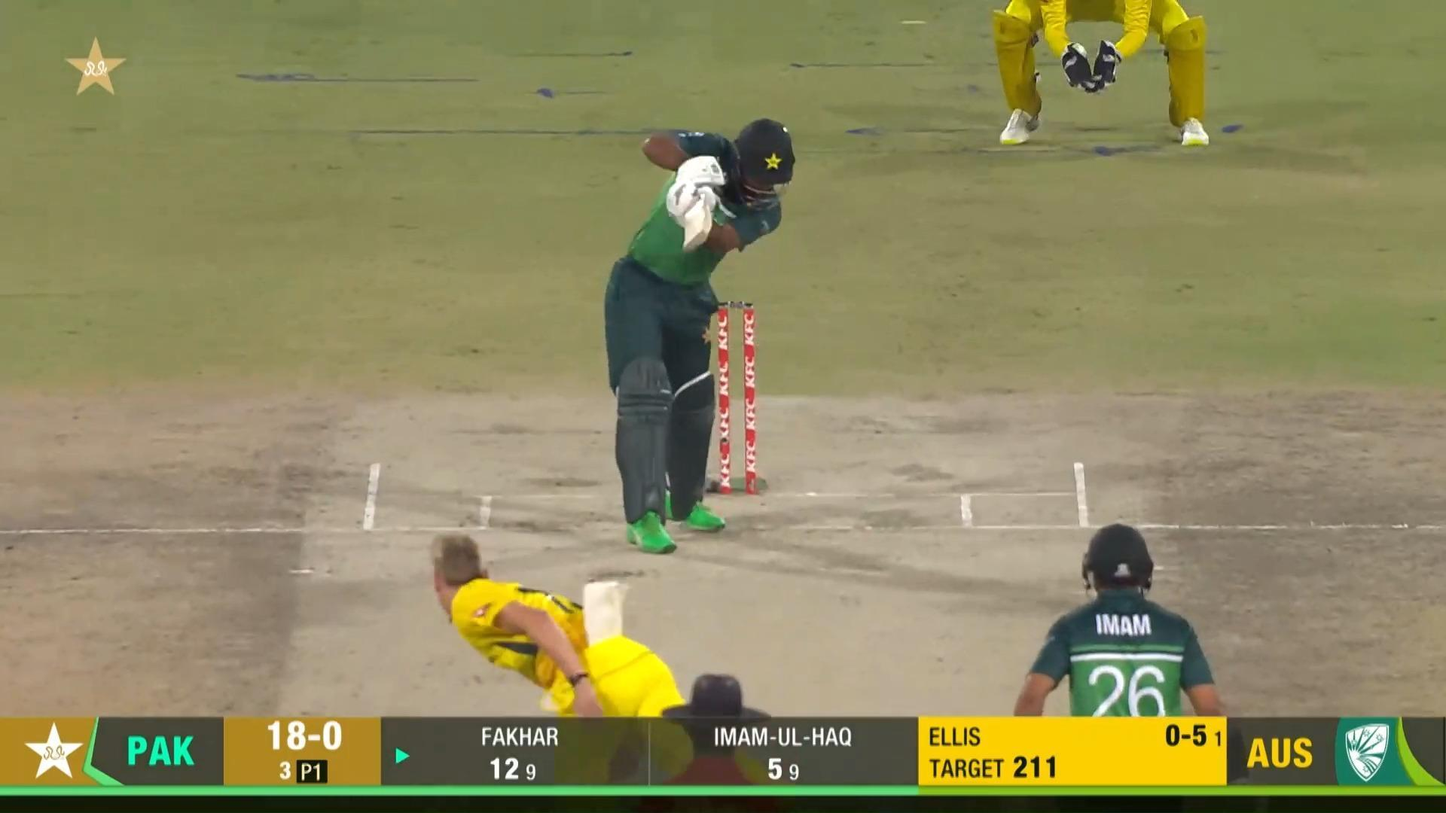BM 1: (600, 115, 800, 557)
BO: (430, 531, 688, 715)
